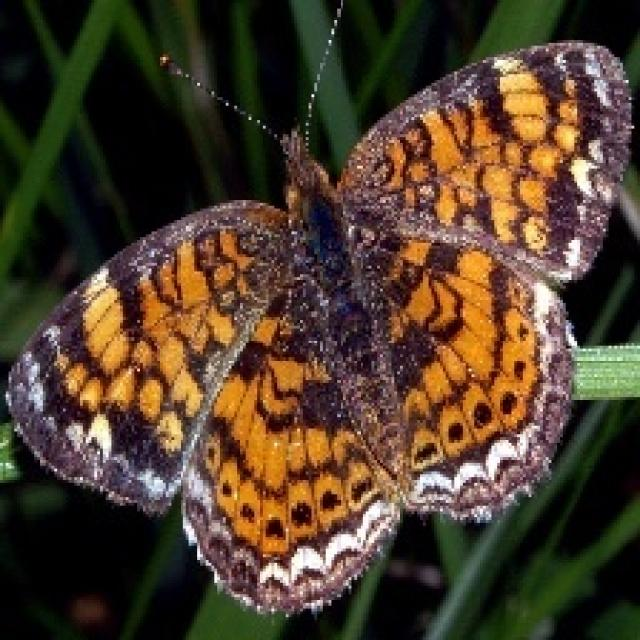butterfly: (3, 0, 634, 617)
